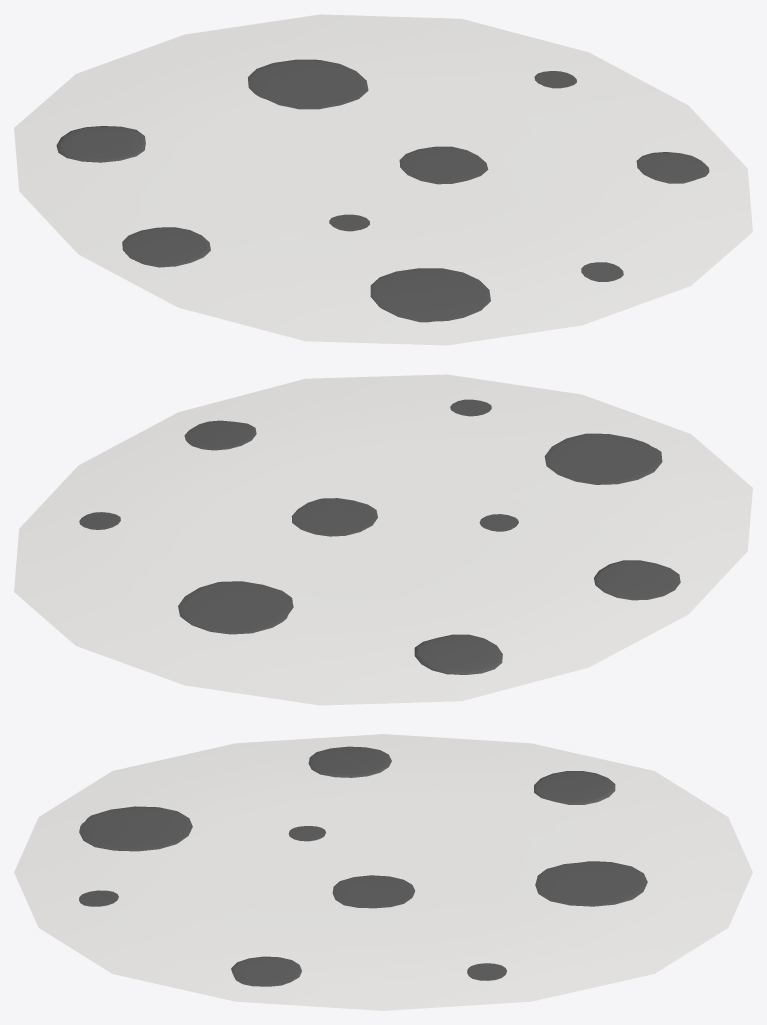
The model's file is Carpet_20.fbx.
3 renders of one model, top to bottom at view 1: azimuth 30°, elevation 25°; view 2: azimuth 150°, elevation 25°; view 3: azimuth 270°, elevation 25°, orthographic. The views are drawn at different scales.
Visible parts, largest first — view 1: Carpet_20; view 2: Carpet_20; view 3: Carpet_20.
Boxes of the visible parts, x1=… form: Carpet_20: x1=14, y1=14, x2=752, y2=345; Carpet_20: x1=14, y1=374, x2=752, y2=705; Carpet_20: x1=14, y1=734, x2=752, y2=1010.
Bounding box in the file's own units: 334 × 377 × 3.25.
